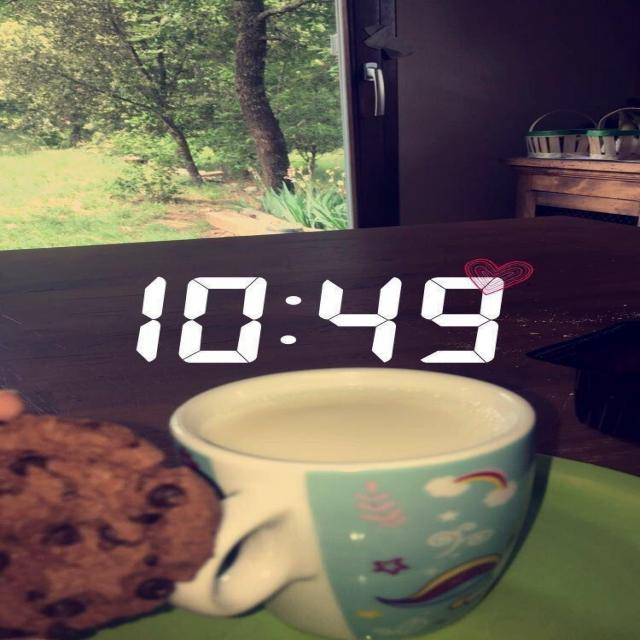cup-handle: (166, 365, 549, 639)
